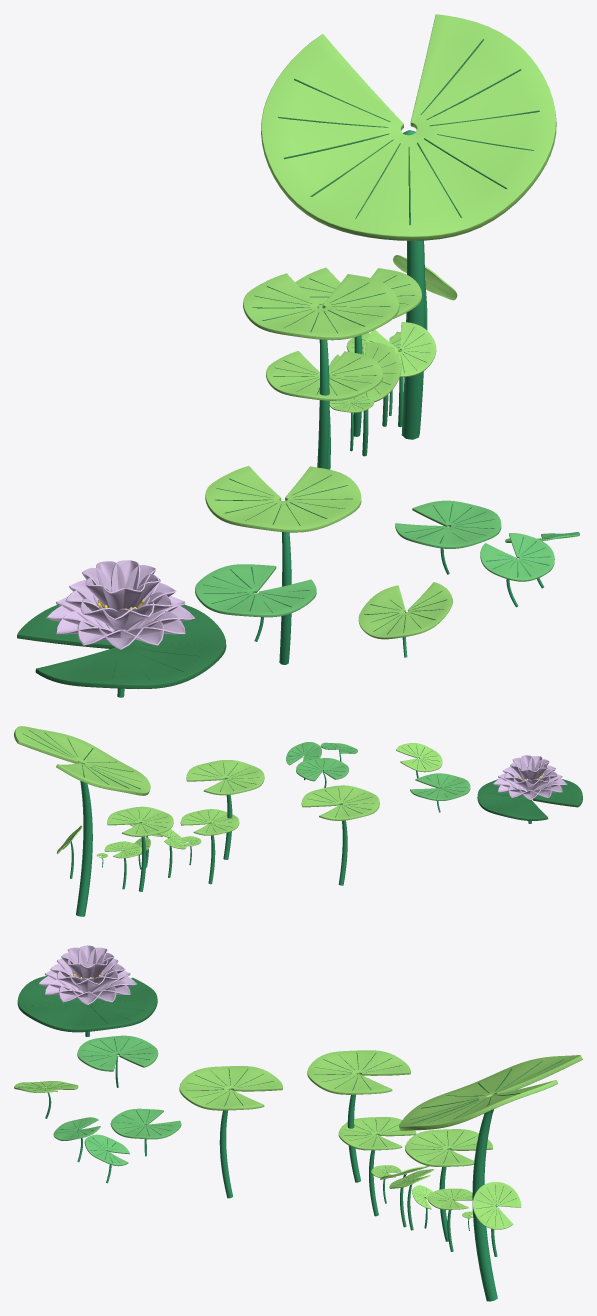
The model's file is 01_lotus_and_lilypads_005.glb.
3 views of the same model, one above another, from view 1: azimuth 30°, elevation 25°; view 2: azimuth 150°, elevation 25°; view 3: azimuth 270°, elevation 25° (orthographic). The views are drawn at different scales.
Parts seen in each view (by area): view 1: LilyPad_02.026, LotusPad.007, LilyPad_02.017, LilyPad_02.016, LilyPad_01.010, LilyPad_02.021, LilyPad_03.005, LilyPad_04.008, LilyPad_05.007, PadStem_02.026, LilyPad_02.025, LilyPad_02.027 (+3 smaller); view 2: LilyPad_02.026, LotusPad.007, LilyPad_02.017, LilyPad_02.016, LilyPad_02.025, PadStem_02.026, LilyPad_01.010, LilyPad_02.021, LilyPad_04.008, LilyPad_03.005, LilyPad_05.008, LilyPad_02.023 (+5 smaller); view 3: LilyPad_02.026, LotusPad.007, LilyPad_02.016, LilyPad_02.017, LilyPad_02.025, LilyPad_01.010, PadStem_02.026, LilyPad_02.021, LilyPad_02.024, LilyPad_03.005, LilyPad_05.008, LilyPad_02.023 (+4 smaller).
Boxes of the visible parts, x1,y1,x2,y2 form: LilyPad_02.026: [261, 14, 556, 240]; LotusPad.007: [17, 604, 226, 689]; LilyPad_02.017: [243, 273, 399, 340]; LilyPad_02.016: [205, 466, 361, 532]; LilyPad_01.010: [195, 564, 316, 617]; LilyPad_02.021: [266, 351, 382, 400]; LilyPad_03.005: [395, 500, 501, 548]; LilyPad_04.008: [358, 582, 452, 639]; LilyPad_05.007: [480, 533, 554, 581]; PadStem_02.026: [401, 130, 425, 439]; LilyPad_02.025: [295, 267, 421, 318]; LilyPad_02.027: [363, 322, 436, 377]; LilyPad_02.026: [14, 726, 150, 795]; LotusPad.007: [477, 779, 582, 820]; LilyPad_02.017: [186, 760, 264, 795]; LilyPad_02.016: [301, 785, 379, 820]; LilyPad_02.025: [107, 806, 173, 836]; PadStem_02.026: [76, 763, 92, 916]; LilyPad_01.010: [410, 773, 470, 800]; LilyPad_02.021: [180, 809, 239, 835]; LilyPad_04.008: [396, 743, 442, 772]; LilyPad_03.005: [296, 758, 348, 781]; LilyPad_05.008: [286, 742, 321, 765]; LilyPad_02.023: [104, 841, 141, 858]; LilyPad_02.026: [399, 1055, 582, 1130]; LotusPad.007: [17, 976, 157, 1032]; LilyPad_02.016: [179, 1066, 282, 1110]; LilyPad_02.017: [307, 1050, 410, 1094]; LilyPad_02.025: [405, 1129, 492, 1166]; LilyPad_01.010: [77, 1035, 158, 1071]; PadStem_02.026: [472, 1109, 497, 1301]; LilyPad_02.021: [338, 1117, 416, 1150]; LilyPad_02.024: [472, 1182, 521, 1229]; LilyPad_03.005: [110, 1108, 181, 1139]; LilyPad_05.008: [84, 1134, 129, 1166]; LilyPad_02.023: [428, 1188, 472, 1209].
Bounding box in the file's own units: 11.92 × 5.25 × 10.97.
